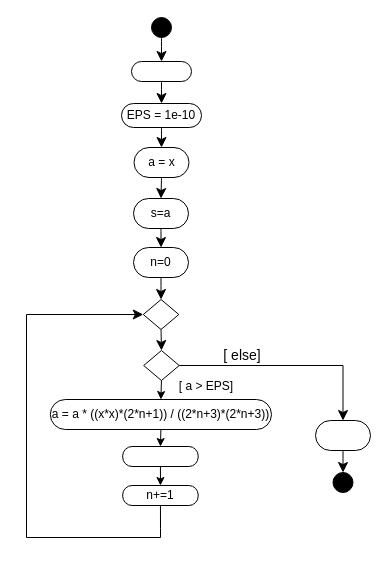
The diagram is 388 pixels wide and 565 high, and some of its shapes have lost their labels. Each missing label, with the centre of its shape:
"Bвод х" goes at point 161,71.
"s += a" goes at point 160,456.
"shi (a)" goes at point 342,435.
